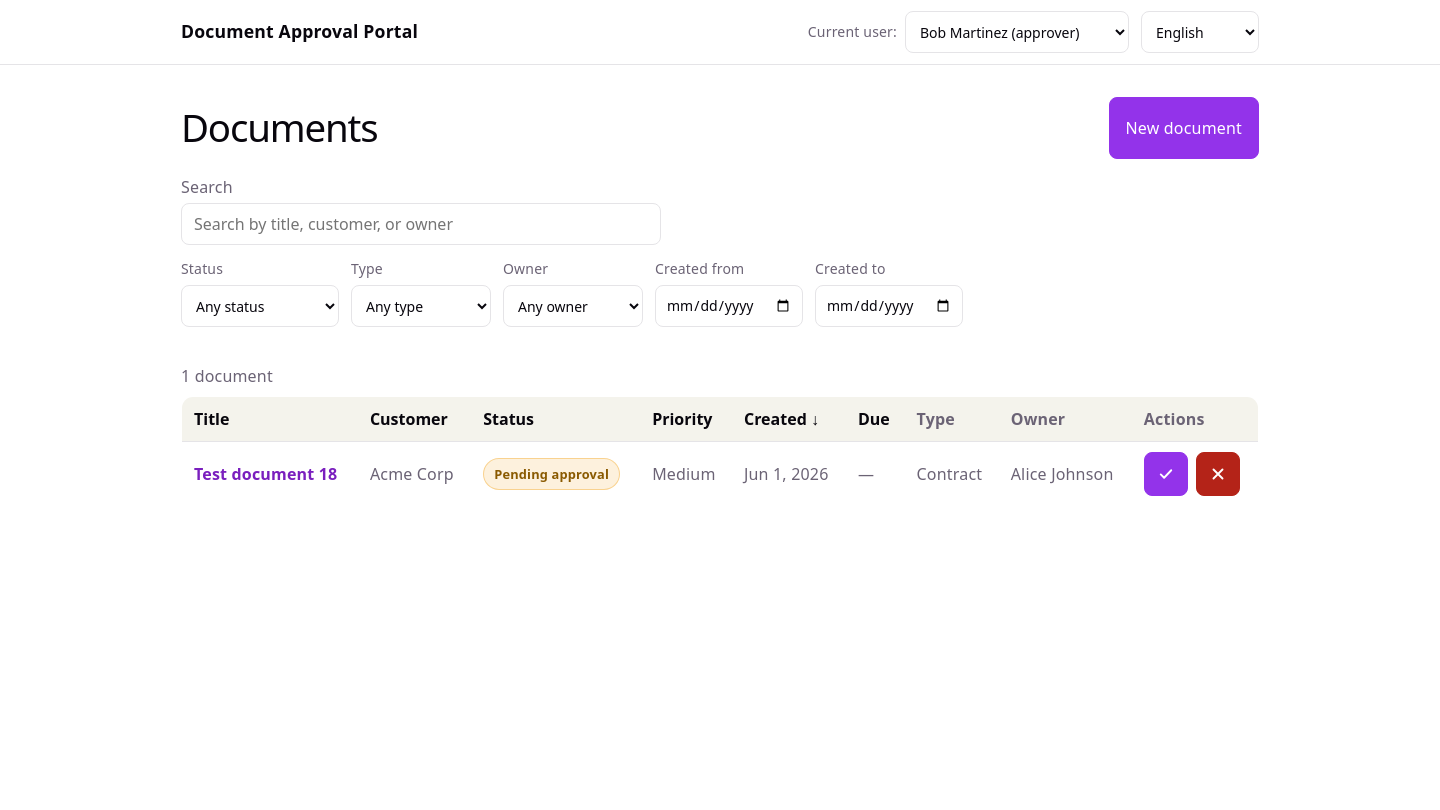
Scenario: document list › requires a reason before rejecting from the list
What coordinates should you click on to do the following:
click the button named "Reject"
I would click on:
 (1218, 474)
Its box is [1196,452,1240,496].
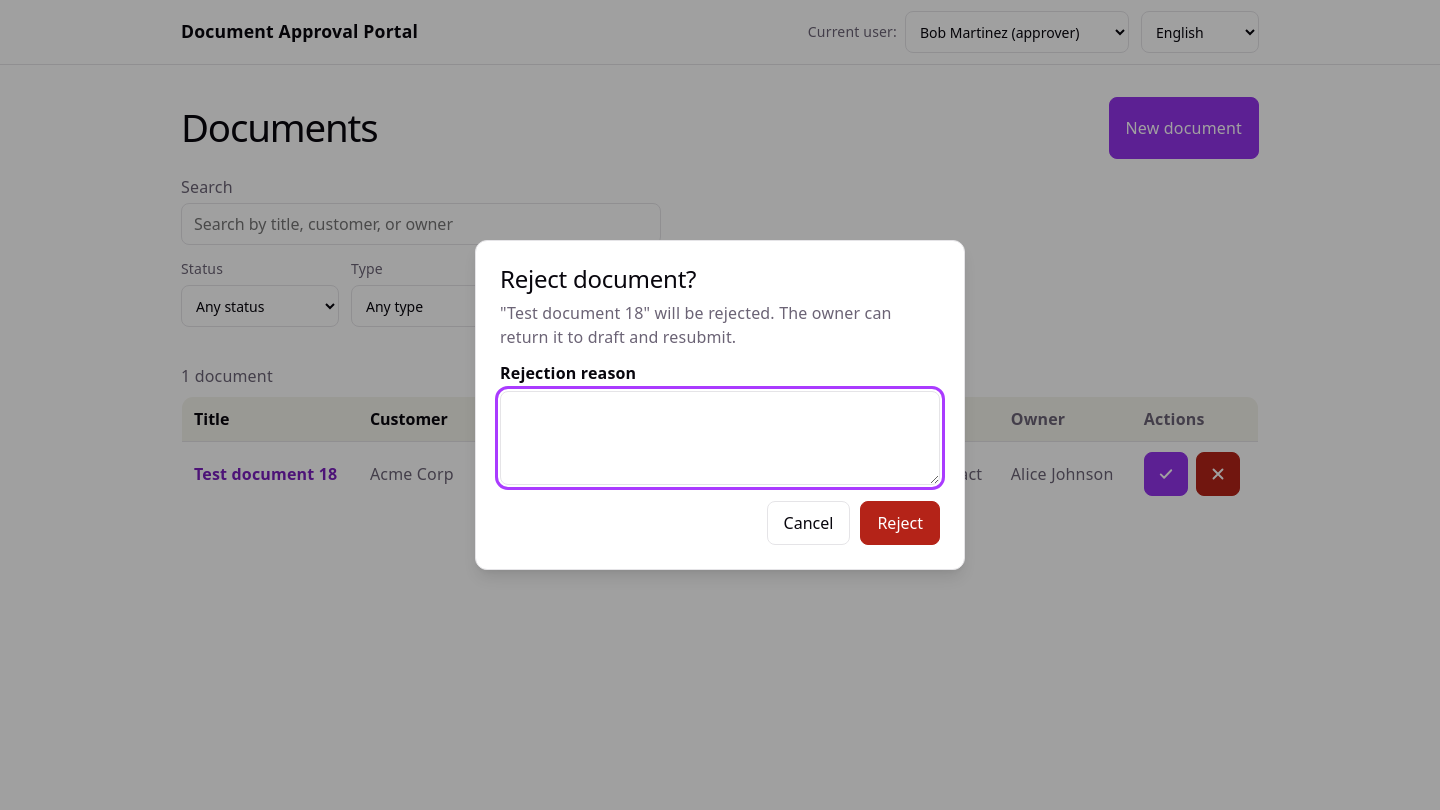
What coordinates should you click on to do the following:
click the button "Reject"
I would click on:
 (900, 523)
Its box is [860,501,940,545].
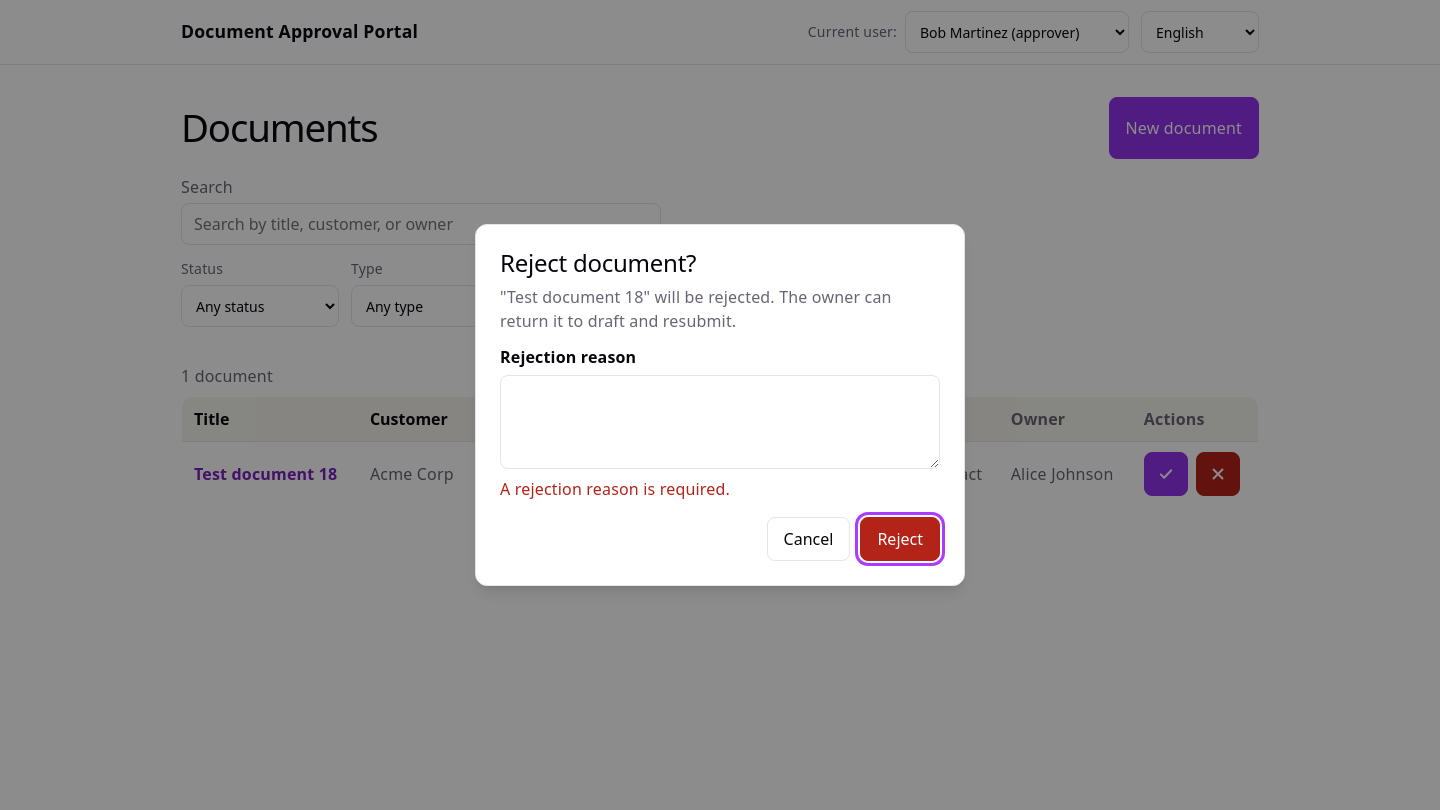
Now the text "A rejection reason is required." is shown, box [500,478,730,500]
